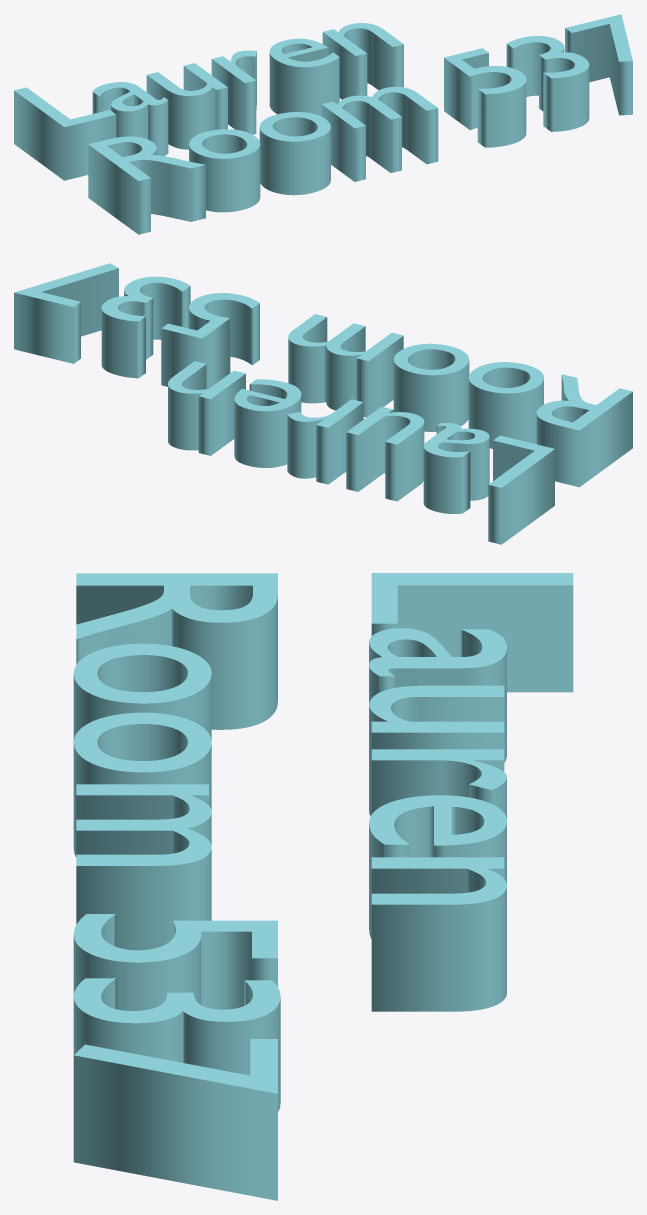
File: lauren-537.gltf
The picture shows the model from 3 angles, top to bottom: view 1: azimuth 30°, elevation 25°; view 2: azimuth 150°, elevation 25°; view 3: azimuth 270°, elevation 25°; orthographic projection. The views are drawn at different scales.
Parts seen in each view (by area): view 1: Text; view 2: Text; view 3: Text.
Part boxes in pixels (x1,y1,x2,y2): Text: (14,14,632,234); Text: (14,263,632,544); Text: (73,573,573,1200).
Bounding box in the file's own units: 4.17 × 0.4 × 1.69.
